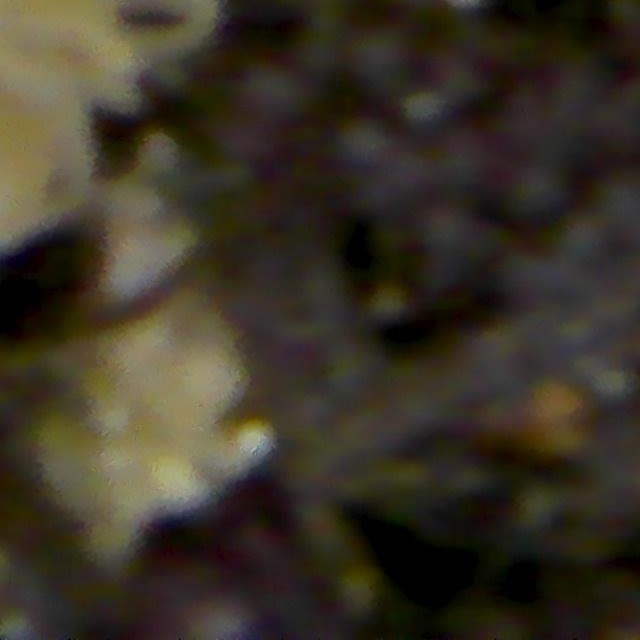SeaGrape: (343, 19, 417, 95), (239, 56, 313, 128), (419, 200, 478, 257), (508, 160, 565, 216), (334, 117, 392, 171), (440, 126, 491, 181)
